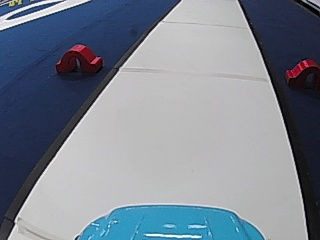bridge: (53, 40, 104, 76), (282, 56, 319, 90)
